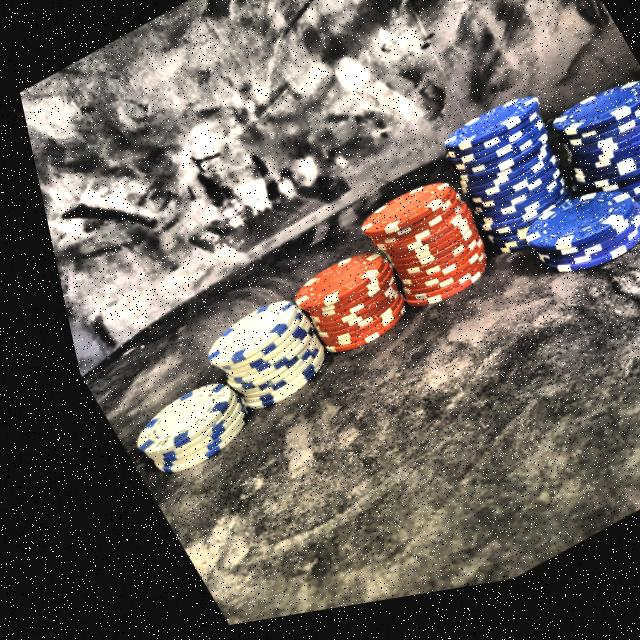Chip: (416, 86, 603, 282), (323, 157, 505, 341), (162, 271, 338, 440), (261, 228, 420, 381), (518, 73, 640, 266), (95, 356, 257, 499), (489, 169, 640, 317)
